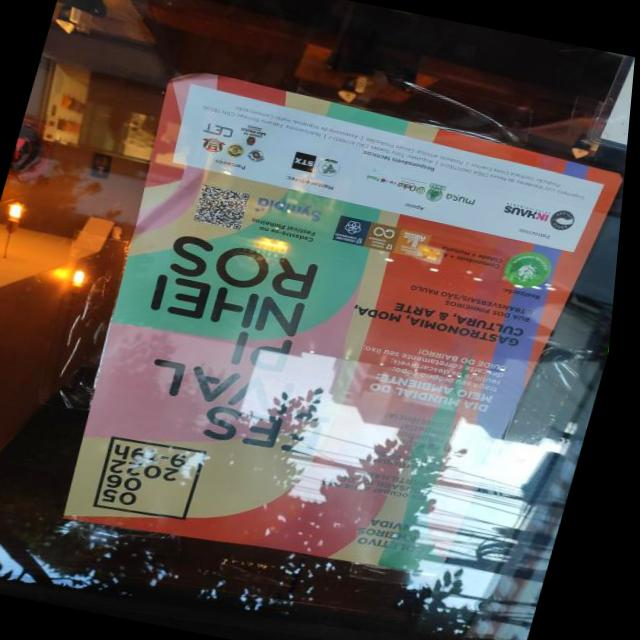qrcode: (197, 185, 254, 231)
